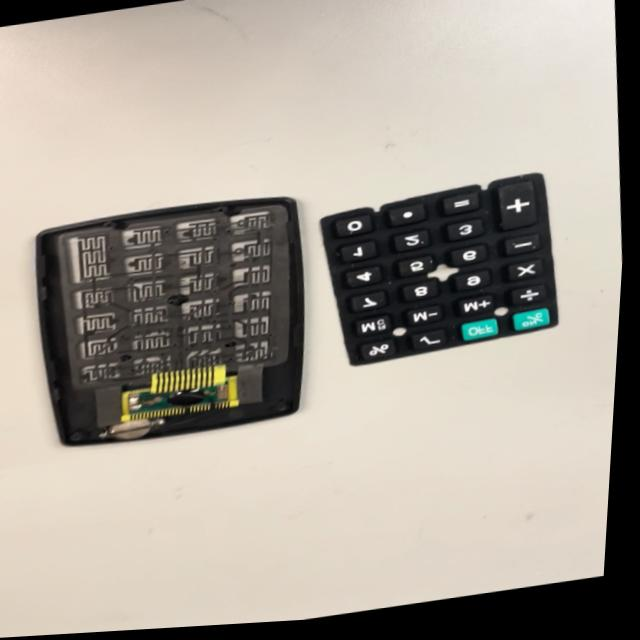front_panel: (11, 182, 330, 461)
number_pad: (313, 167, 569, 381)
